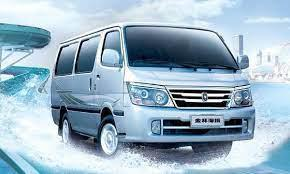Van: (49, 22, 258, 160)
